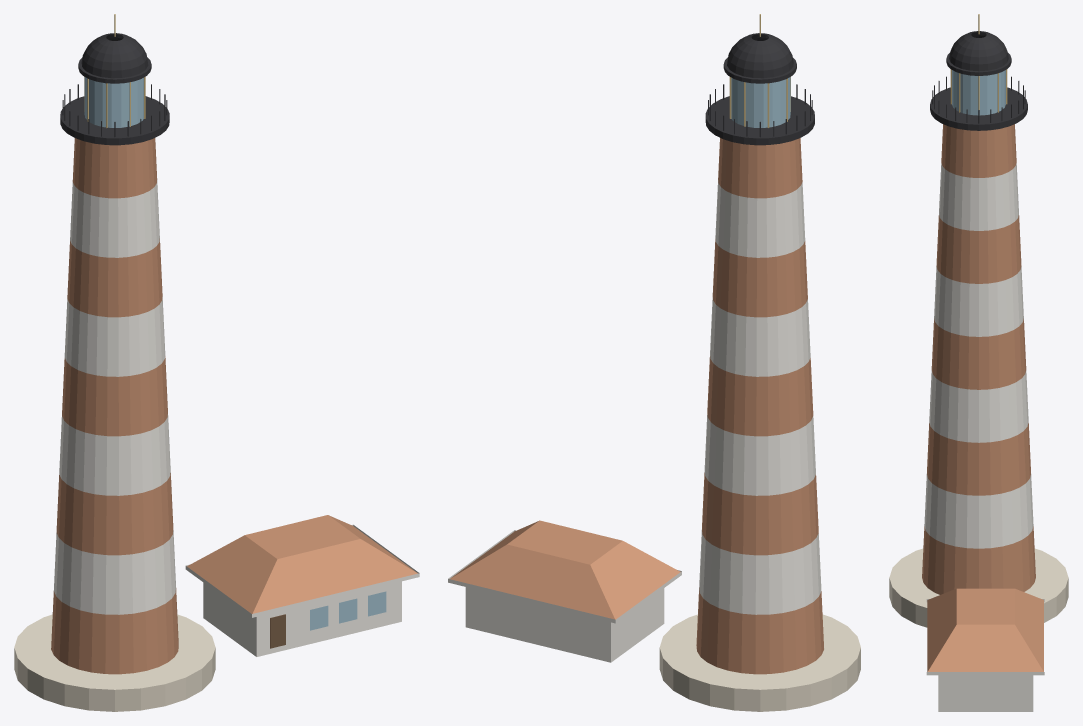
The model's file is E1-6_farol.fbx.
3 renders of one model, left to right at view 1: azimuth 30°, elevation 25°; view 2: azimuth 150°, elevation 25°; view 3: azimuth 270°, elevation 25°, orthographic. The views are drawn at different scales.
Parts seen in each view (by area): view 1: E1-6_farol; view 2: E1-6_farol; view 3: E1-6_farol.
Part boxes in pixels (x1,y1,x2,y2): E1-6_farol: (14,14,419,711); E1-6_farol: (448,14,860,711); E1-6_farol: (889,14,1068,711).
Bounding box in the file's own units: 27.45 × 47.4 × 13.2.
